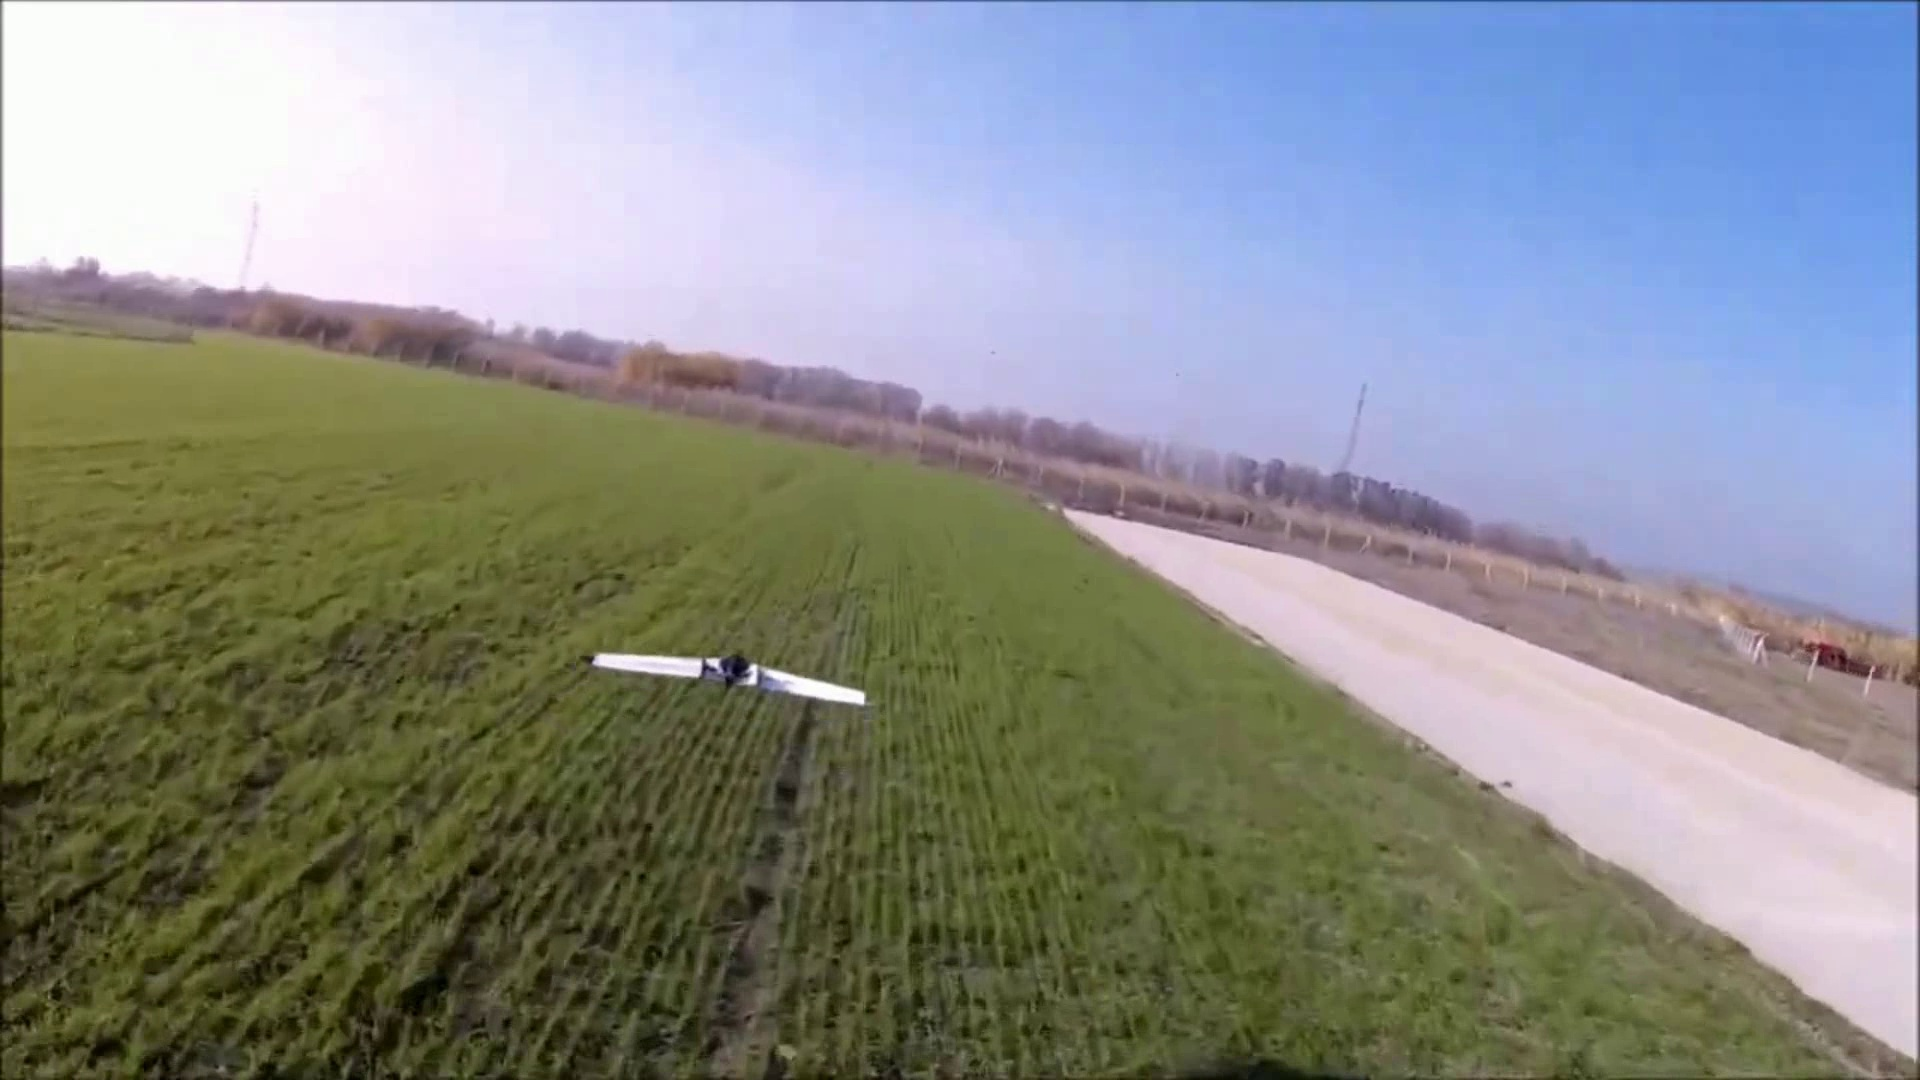airplane: (589, 650, 869, 709)
